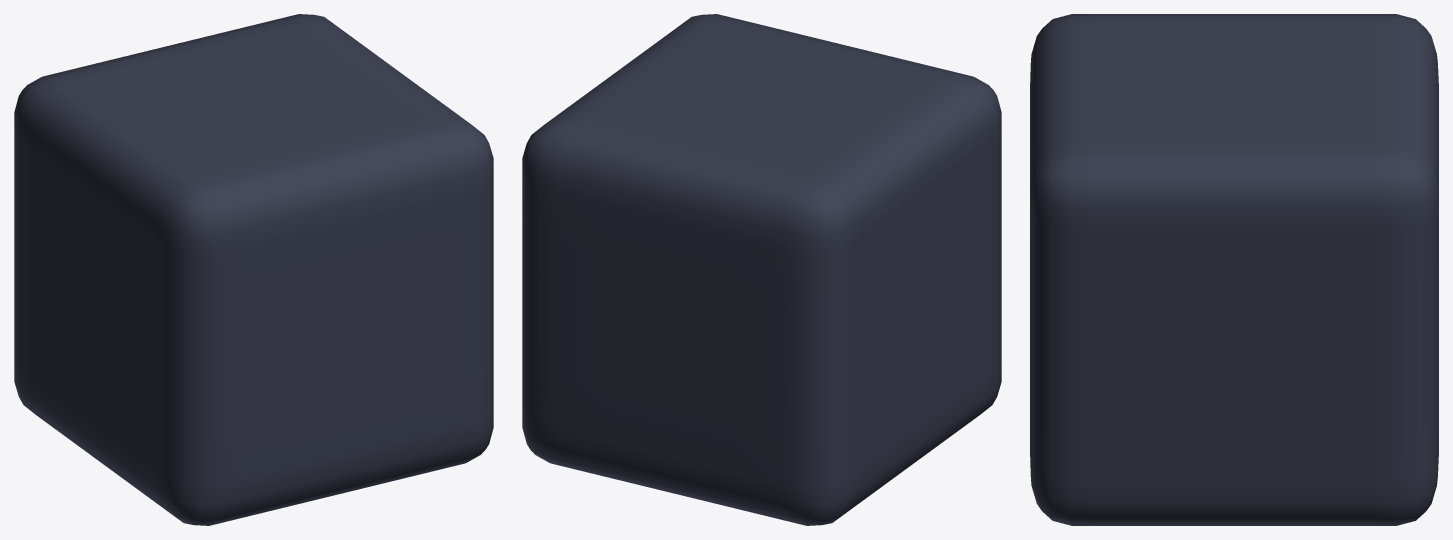
The model's file is CubeClear.fbx.
3 views of the same model, side by side, from view 1: azimuth 30°, elevation 25°; view 2: azimuth 150°, elevation 25°; view 3: azimuth 270°, elevation 25° (orthographic). The views are drawn at different scales.
Parts seen in each view (by area): view 1: Cube.003; view 2: Cube.003; view 3: Cube.003.
Boxes of the visible parts, x1,y1,x2,y2 form: Cube.003: [14, 14, 493, 525]; Cube.003: [522, 14, 1001, 525]; Cube.003: [1030, 14, 1438, 525].
Size of the model in its own units: 100 by 100 by 101.
